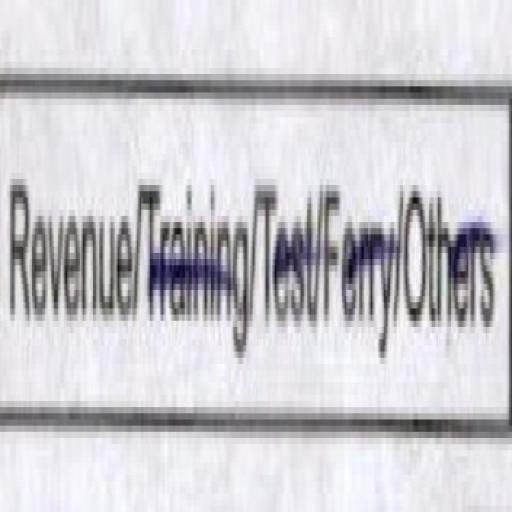check: (0, 18, 141, 512)
